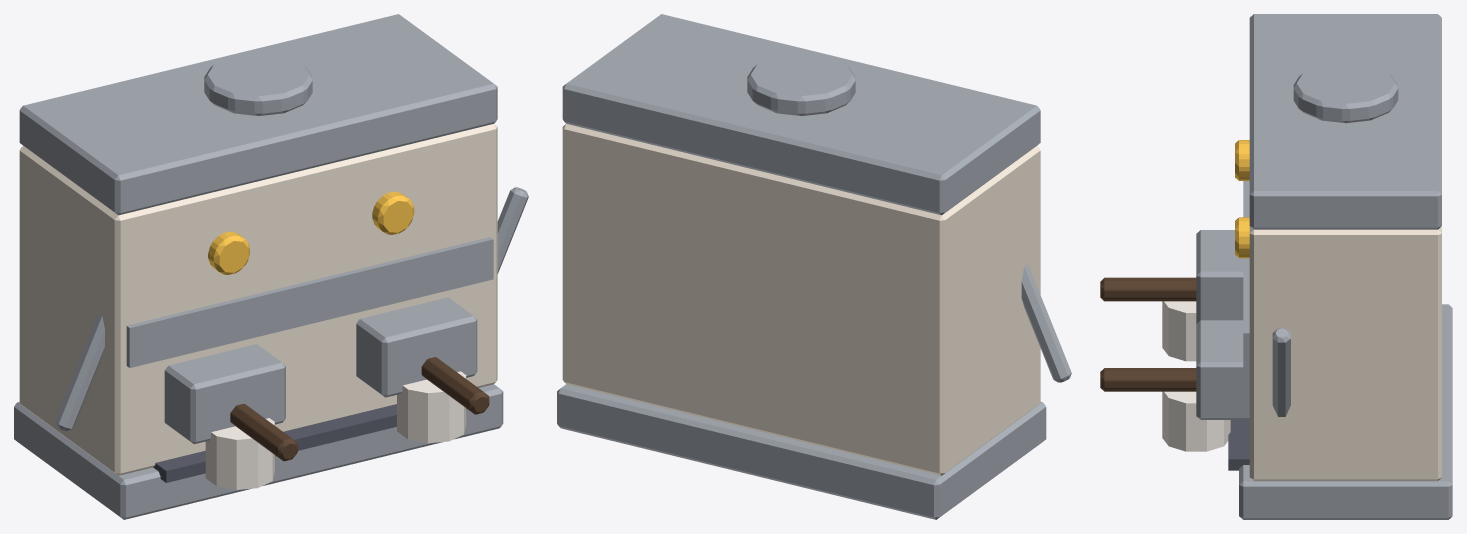
File: CatCafe_Furniture_EspressoMachine_L3.glb
The picture shows the model from 3 angles, left to right: view 1: azimuth 30°, elevation 25°; view 2: azimuth 150°, elevation 25°; view 3: azimuth 270°, elevation 25°; orthographic projection. The views are drawn at different scales.
Parts seen in each view (by area): view 1: CatCafe_Furniture_EspressoMachine_L3; view 2: CatCafe_Furniture_EspressoMachine_L3; view 3: CatCafe_Furniture_EspressoMachine_L3.
Part boxes in pixels (bbox=[...]): CatCafe_Furniture_EspressoMachine_L3: bbox=[14, 14, 528, 519]; CatCafe_Furniture_EspressoMachine_L3: bbox=[557, 14, 1071, 519]; CatCafe_Furniture_EspressoMachine_L3: bbox=[1100, 14, 1452, 519].
Size of the model in its own units: 2.46 by 1.8 by 1.65.
Materials: 1 (1 with a texture image).
